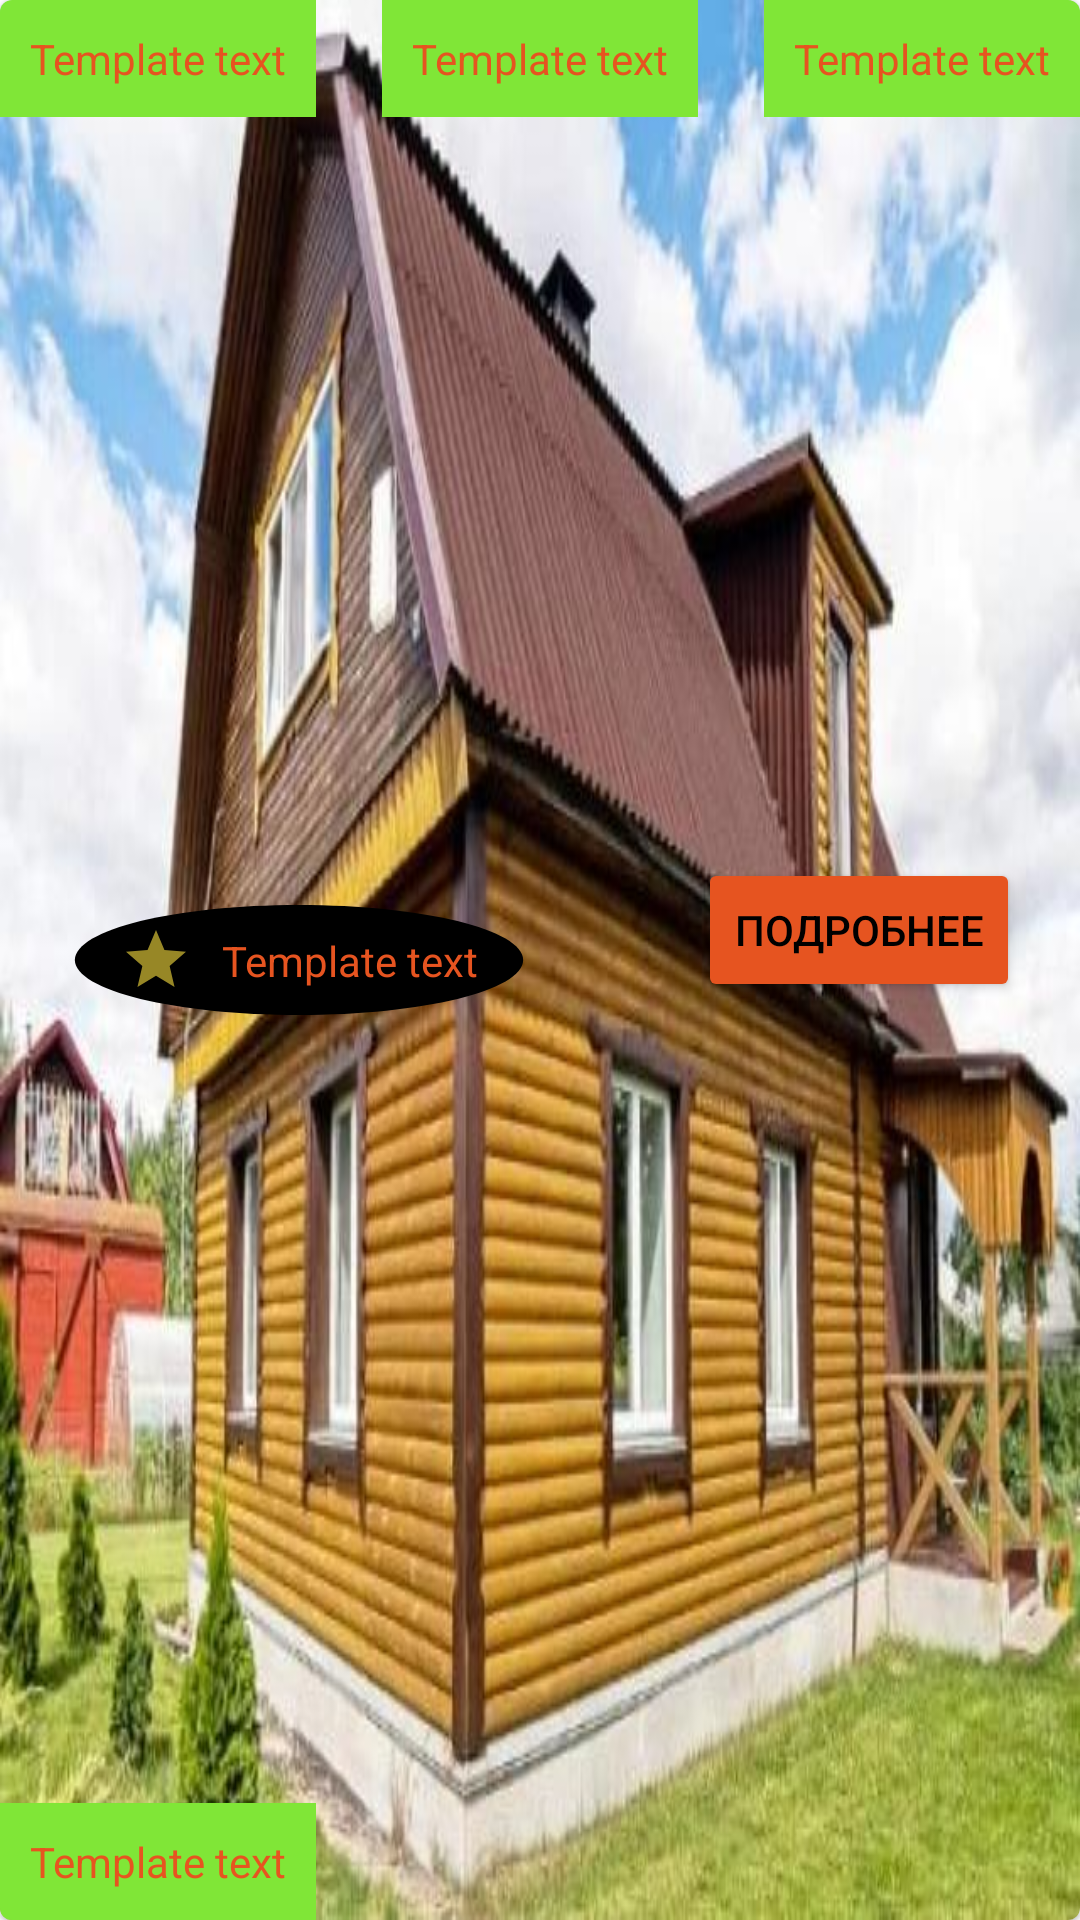

Icons on this 1080*1920 Android screen, each with the point to tap as (x=x, y=y):
star: (x=156, y=958)
